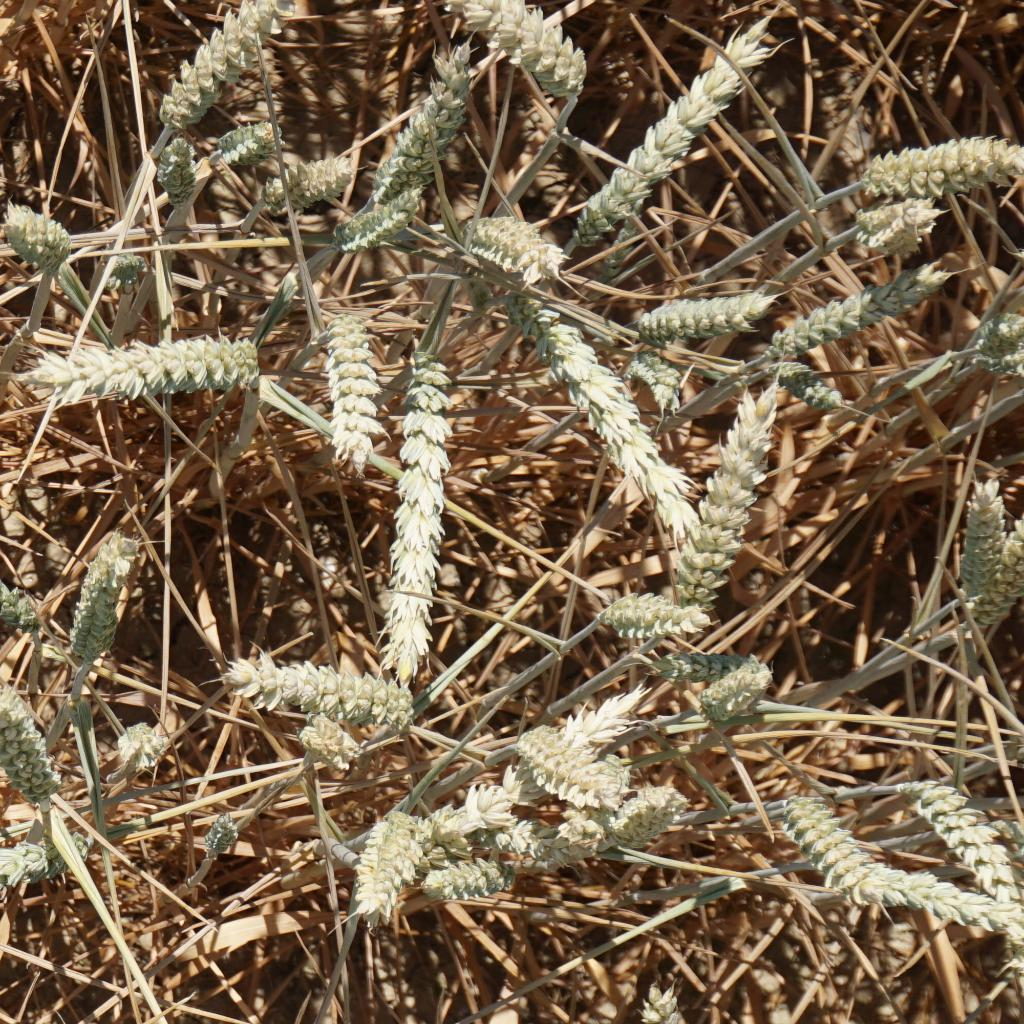0-0: (514, 287, 691, 533), (569, 72, 775, 222), (679, 393, 789, 618), (19, 326, 265, 417), (230, 632, 413, 736), (775, 263, 953, 358), (154, 0, 281, 132), (856, 844, 1008, 953), (391, 346, 441, 659), (386, 43, 476, 198), (314, 295, 388, 482), (858, 125, 1024, 202), (903, 781, 1016, 893), (55, 531, 143, 671), (453, 195, 563, 305), (775, 791, 889, 891), (475, 0, 584, 98), (633, 269, 777, 340), (342, 803, 423, 909), (514, 740, 632, 809), (610, 574, 709, 649), (411, 774, 521, 840), (0, 210, 94, 281), (0, 828, 70, 923), (90, 236, 177, 310), (844, 197, 953, 256), (755, 365, 880, 415), (0, 663, 47, 795), (953, 470, 1000, 598), (529, 807, 624, 870), (643, 634, 769, 681), (565, 677, 649, 746), (258, 147, 356, 206), (415, 846, 509, 907), (702, 635, 772, 716), (982, 512, 1024, 640), (281, 710, 362, 774), (218, 108, 299, 171), (106, 705, 165, 791), (0, 525, 41, 644), (612, 785, 683, 852), (340, 190, 423, 244), (622, 980, 722, 1024), (197, 802, 242, 890), (974, 303, 1024, 382), (155, 130, 206, 206), (630, 346, 687, 411)
